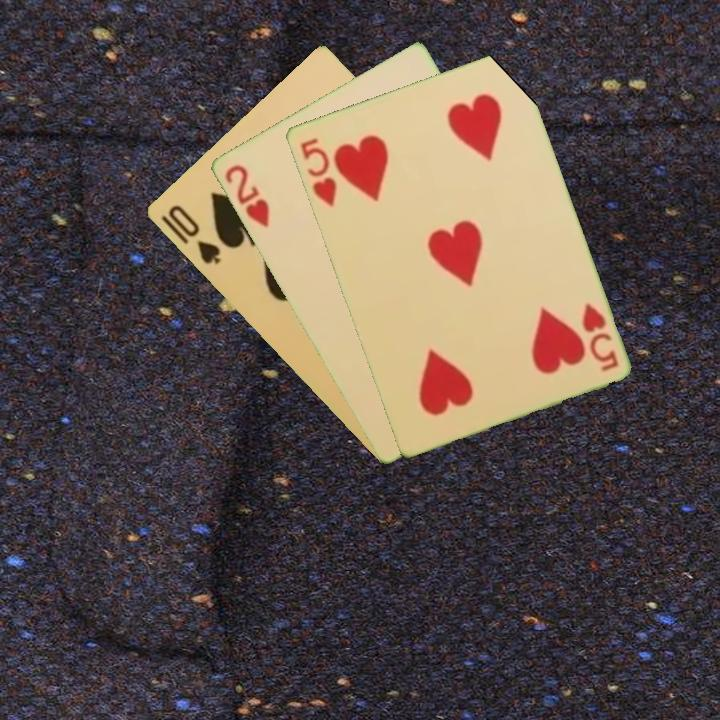10s: (164, 201, 224, 268)
2h: (220, 160, 272, 231)
5h: (296, 134, 339, 209), (578, 299, 621, 374)
